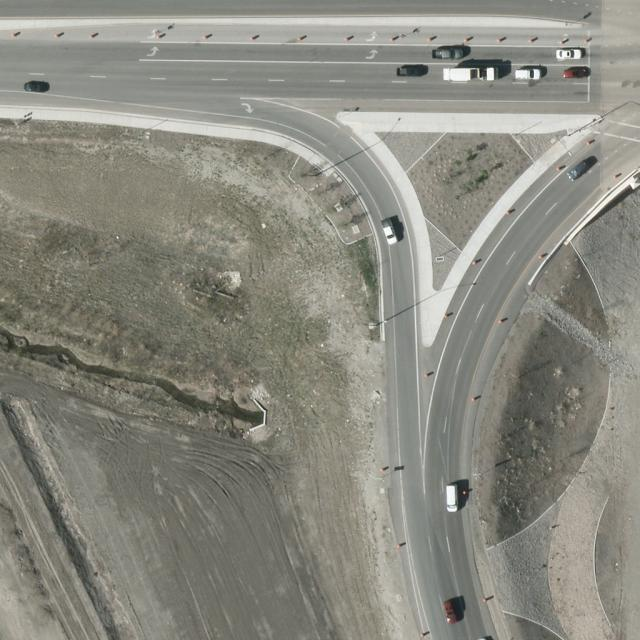vehicle: (442, 65, 500, 84), (566, 158, 592, 184), (378, 218, 399, 245), (443, 599, 460, 625), (562, 66, 592, 80), (397, 66, 429, 78), (429, 50, 466, 60), (513, 69, 543, 80), (446, 485, 458, 512), (556, 50, 584, 61), (22, 82, 50, 92)
